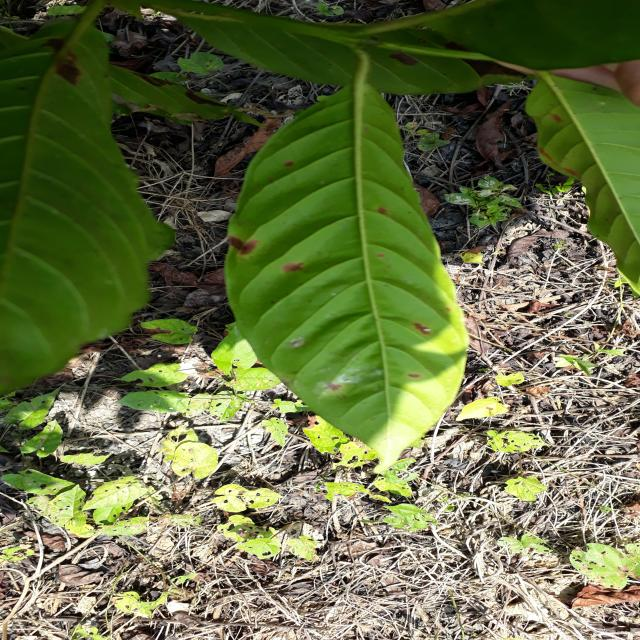Enfermedad-Roya: (229, 88, 470, 473)
